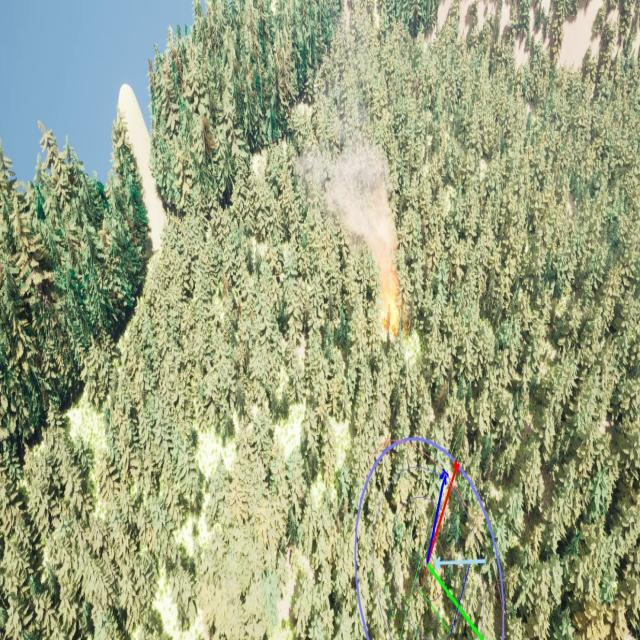fire: (377, 270, 405, 342)
smoke: (301, 126, 408, 270)
